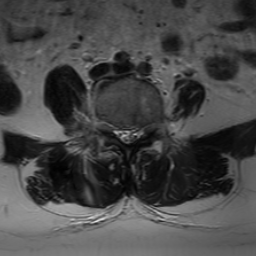CCS_severe_stenosis: (123, 117, 131, 152)
LFS_normal: (140, 116, 148, 144)
LLS_normal: (131, 118, 140, 147)
RFS_normal: (107, 114, 115, 142)
RLS_stenosis: (115, 117, 123, 148)
